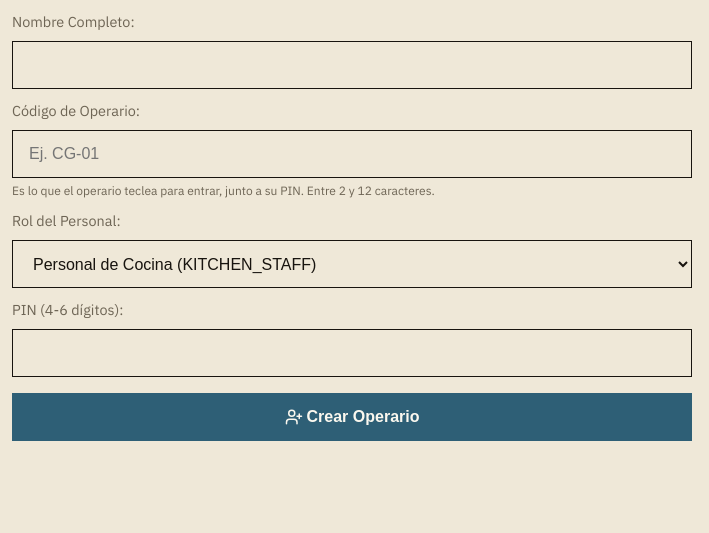
Test: TK-173-FE (US-051): el alta pide y devuelve el codigo de operario › un codigo ya en uso llega al operador como mensaje accionable, no como "Error HTTP 409"
Type "Carlos Gomez" into the field labelled "Nombre Completo:" at (352, 65), box [12,41,692,89]
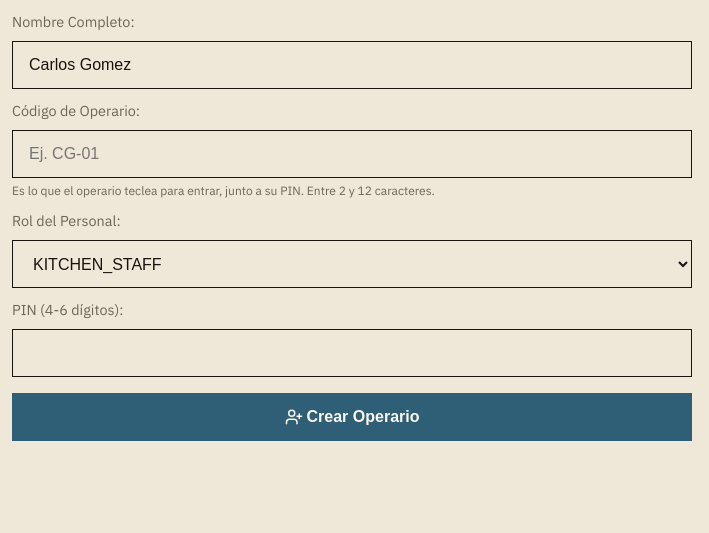
Type "CG-01" into the field labelled "Código de Operario:" at (352, 154), box [12,130,692,178]
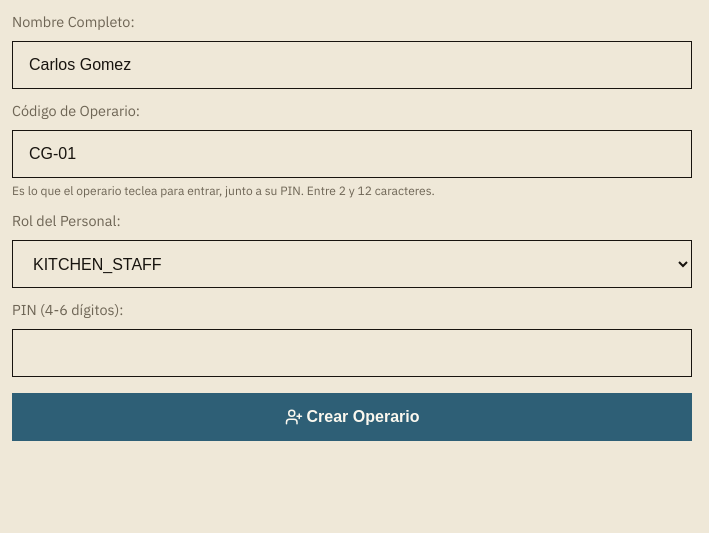
Type "4321" into the password field labelled "PIN (4-6 dígitos):" at (352, 353), box [12,329,692,377]
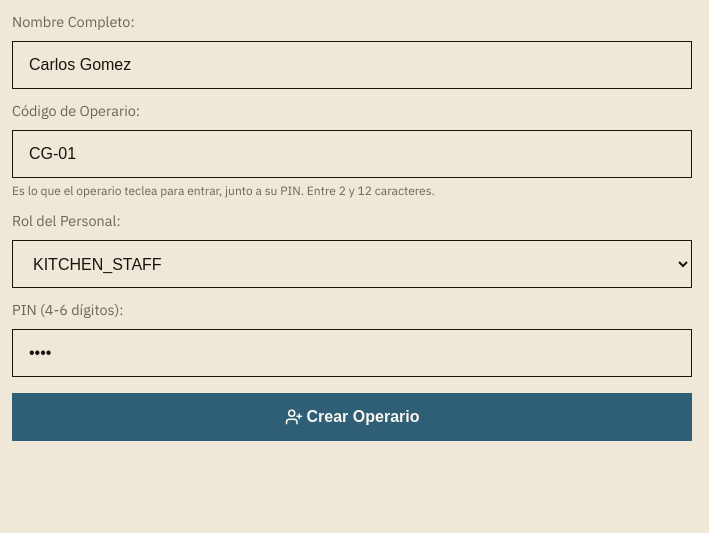
Click the button "Crear Operario" at (352, 417), box [12,393,692,441]
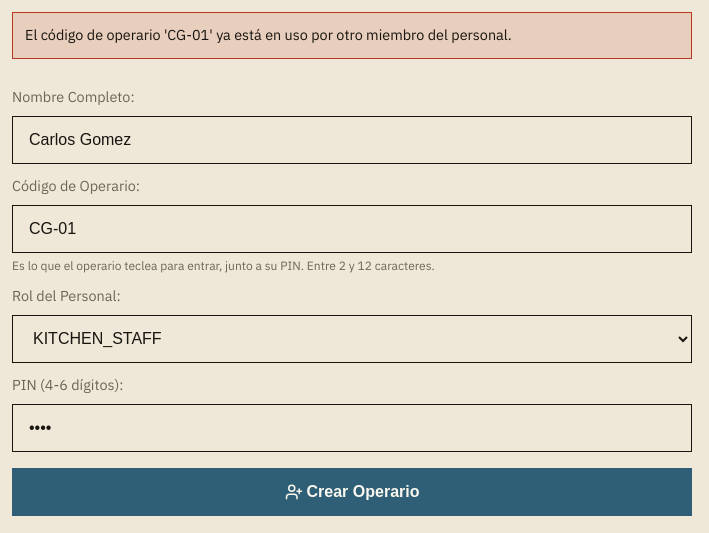
Now the message shows "CG-01", box [25,25,512,44]
